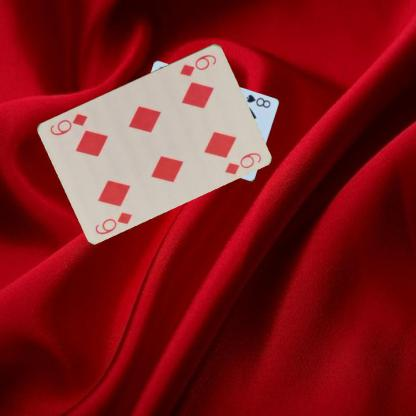6d: (92, 209, 134, 236), (177, 52, 218, 78)
8s: (243, 92, 272, 109)
